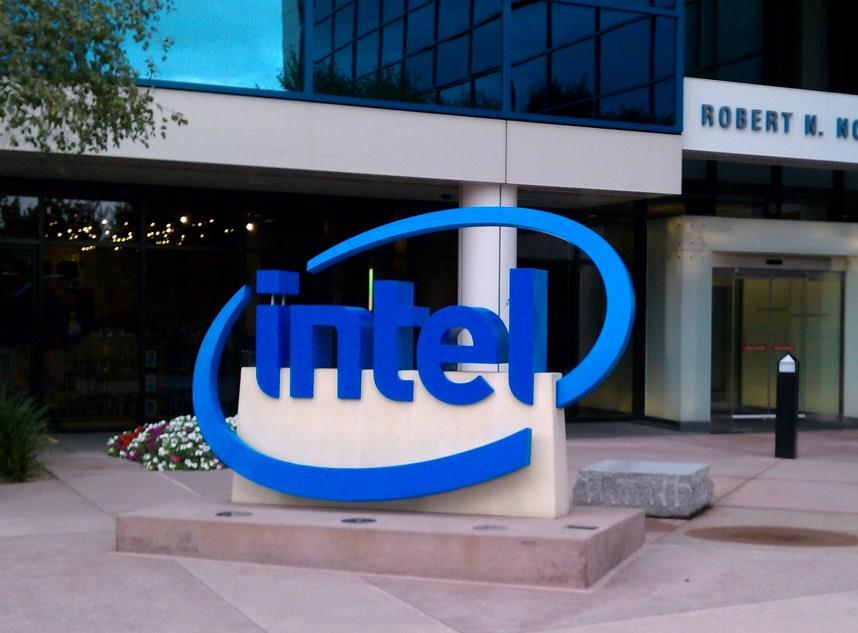intel: (198, 200, 633, 495)
